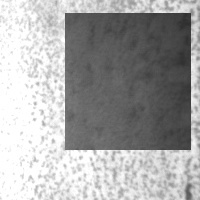pitted_surface: (17, 1, 199, 192), (65, 13, 191, 150)
